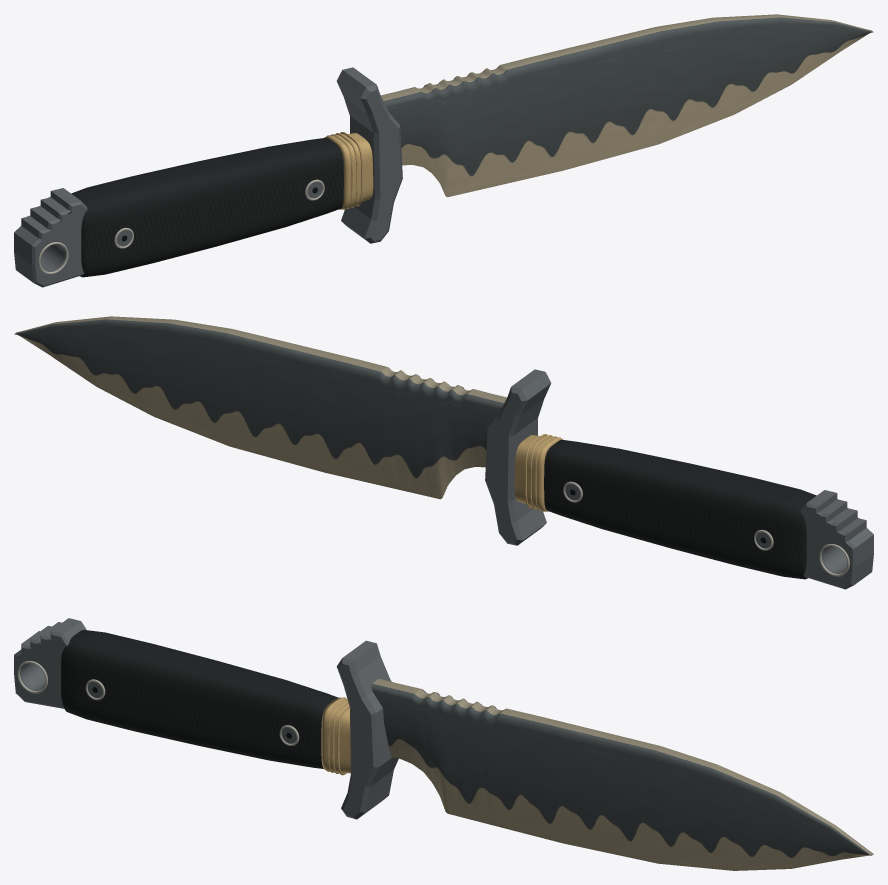
The model's file is classic-knife-v6-right-hand.glb.
3 renders of one model, top to bottom at view 1: azimuth 30°, elevation 25°; view 2: azimuth 150°, elevation 25°; view 3: azimuth 330°, elevation 25°, orthographic.
Visible parts, largest first — view 1: Blade with continuous shoulder and concealed tang — V2, Carbon-fibre grip, Sculpted dark-metal guard, Stepped pommel with open lanyard eye, Gold ferrule — seated into guard; view 2: Blade with continuous shoulder and concealed tang — V2, Carbon-fibre grip, Sculpted dark-metal guard, Stepped pommel with open lanyard eye, Gold ferrule — seated into guard; view 3: Blade with continuous shoulder and concealed tang — V2, Carbon-fibre grip, Sculpted dark-metal guard, Stepped pommel with open lanyard eye, Gold ferrule — seated into guard.
Boxes of the visible parts, box(x1,y1,x2,y2) form: Blade with continuous shoulder and concealed tang — V2: box(59, 14, 873, 221); Carbon-fibre grip: box(67, 138, 343, 277); Sculpted dark-metal guard: box(336, 67, 402, 243); Stepped pommel with open lanyard eye: box(14, 188, 87, 287); Gold ferrule — seated into guard: box(324, 133, 373, 209); Blade with continuous shoulder and concealed tang — V2: box(14, 316, 828, 523); Carbon-fibre grip: box(544, 440, 820, 579); Sculpted dark-metal guard: box(485, 369, 551, 545); Stepped pommel with open lanyard eye: box(800, 490, 873, 589); Gold ferrule — seated into guard: box(514, 435, 563, 511); Blade with continuous shoulder and concealed tang — V2: box(371, 679, 873, 870); Carbon-fibre grip: box(61, 630, 338, 768); Sculpted dark-metal guard: box(336, 640, 398, 819); Stepped pommel with open lanyard eye: box(14, 618, 86, 708); Gold ferrule — seated into guard: box(321, 697, 350, 773).
Bounding box in the file's own units: 6.69 × 1.19 × 0.41.
Materials: 6 (2 with a texture image).
